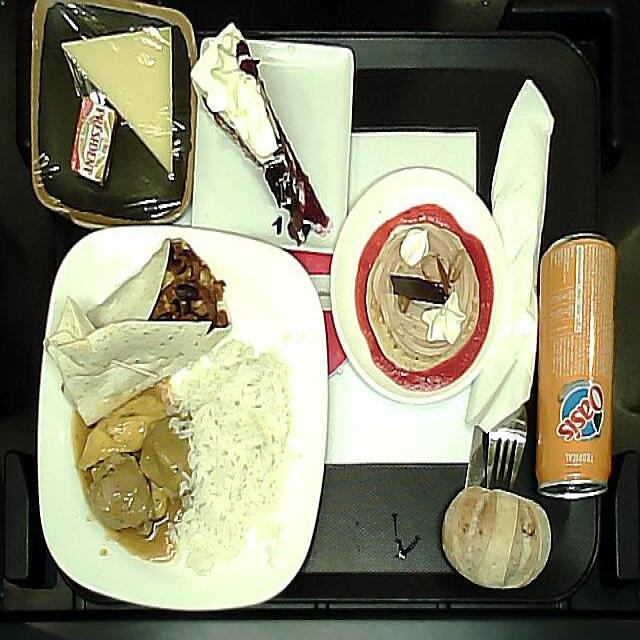plate: (329, 164, 506, 405), (190, 21, 356, 256), (29, 0, 198, 228), (535, 232, 616, 500), (438, 483, 552, 590)
